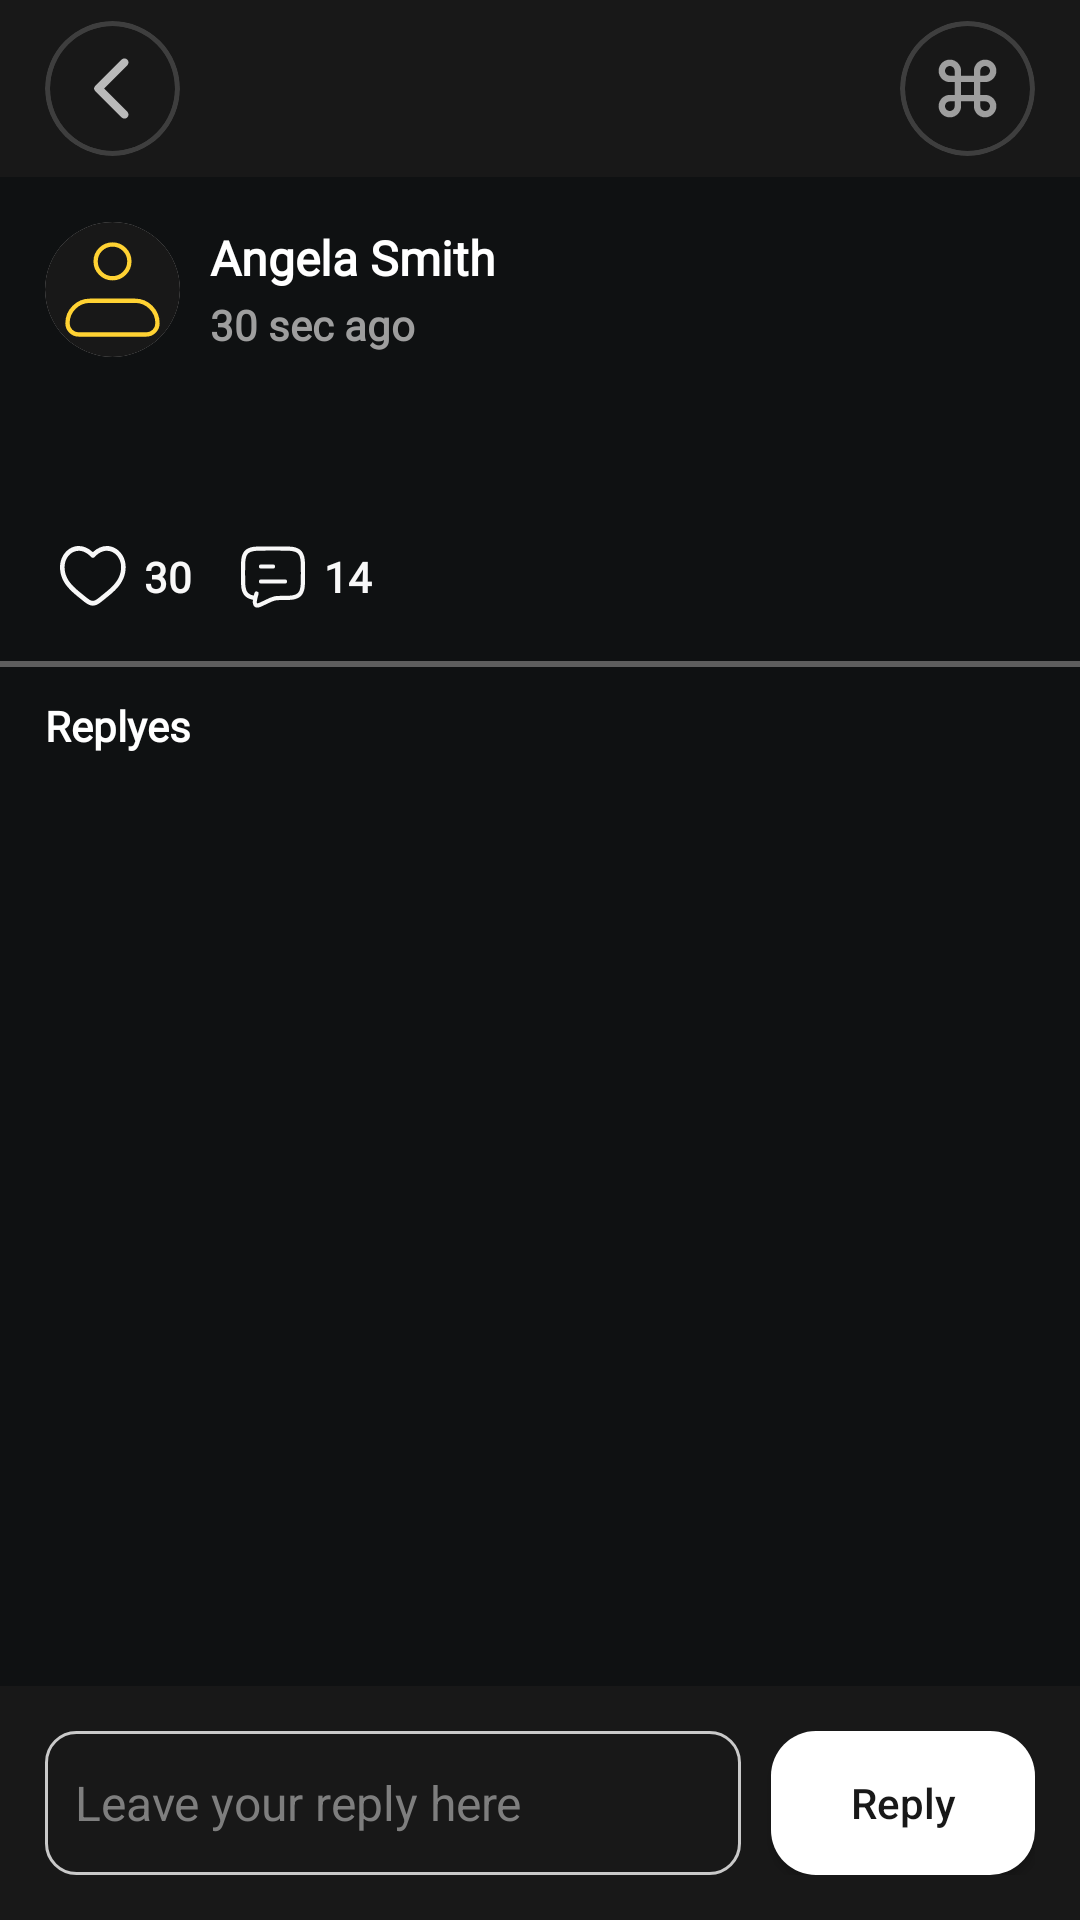

Named icons in this screenshot (1080 x 1920) and their bounding boxes, bbox(x1, y1, x2, y2):
back: bbox(94, 58, 129, 119)
heart: bbox(60, 546, 126, 606)
profile: bbox(45, 222, 180, 357)
